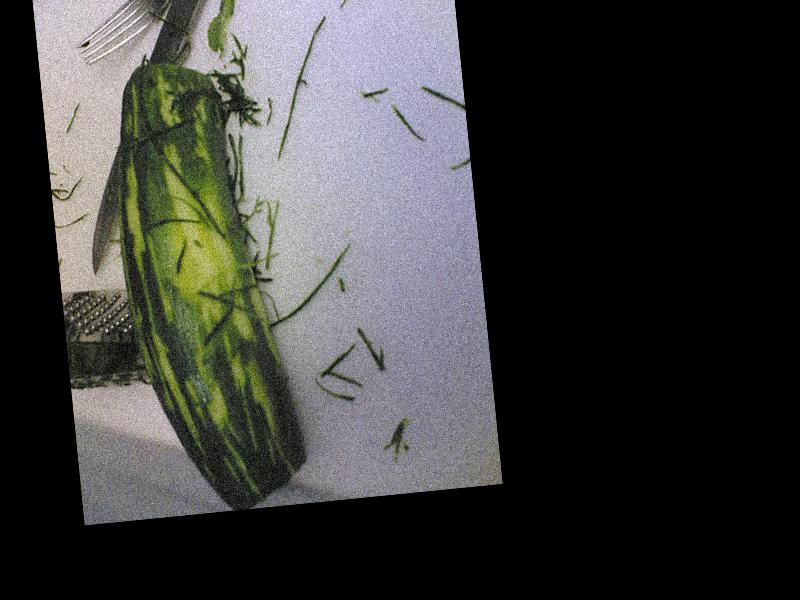Cucumber: (103, 51, 311, 516)
